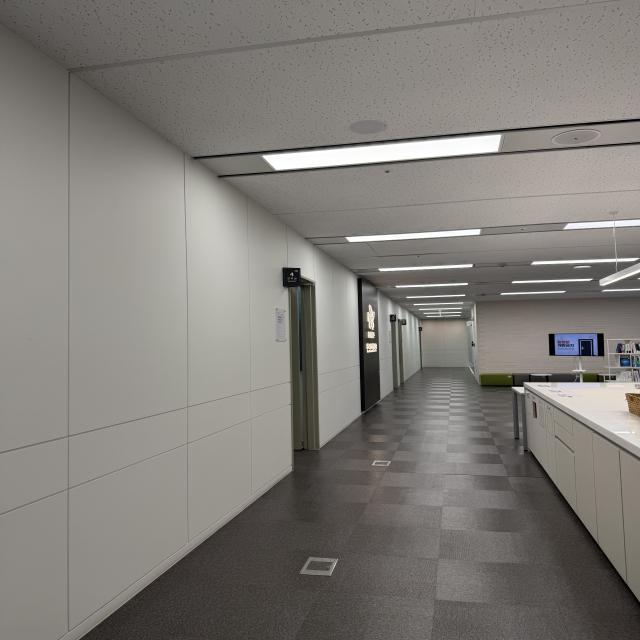room4: (285, 270, 300, 286)
